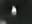person: (11, 6, 18, 18)
